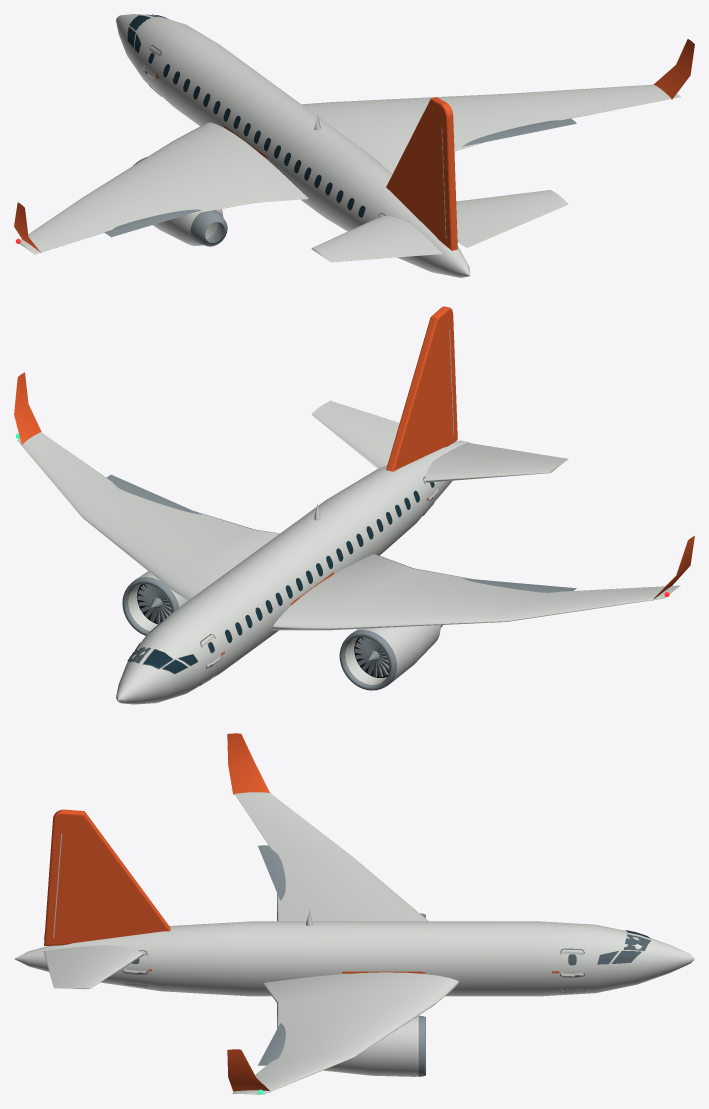
The picture shows the model from 3 angles, top to bottom: view 1: azimuth 30°, elevation 25°; view 2: azimuth 150°, elevation 25°; view 3: azimuth 270°, elevation 25°; orthographic projection. The views are drawn at different scales.
Visible parts, largest first — view 1: Peregrine e9ece7, Peregrine ef5b26, Peregrine 879399, Peregrine 193540; view 2: Peregrine e9ece7, Peregrine ef5b26, Peregrine 879399, Peregrine 193540; view 3: Peregrine e9ece7, Peregrine ef5b26, Peregrine 879399, Peregrine 526169.
Part boxes in pixels (<box>): Peregrine e9ece7: <box>19,14,680,277</box>; Peregrine ef5b26: <box>14,39,694,252</box>; Peregrine 879399: <box>104,118,576,246</box>; Peregrine 193540: <box>127,14,365,217</box>; Peregrine e9ece7: <box>17,330,680,704</box>; Peregrine ef5b26: <box>14,306,694,655</box>; Peregrine 879399: <box>106,474,576,690</box>; Peregrine 193540: <box>127,482,434,673</box>; Peregrine e9ece7: <box>14,789,694,1094</box>; Peregrine ef5b26: <box>44,733,559,1091</box>; Peregrine 879399: <box>258,845,425,1076</box>; Peregrine 526169: <box>122,930,650,992</box>.
Bounding box in the file's own units: 25.3 × 7.93 × 23.05.
